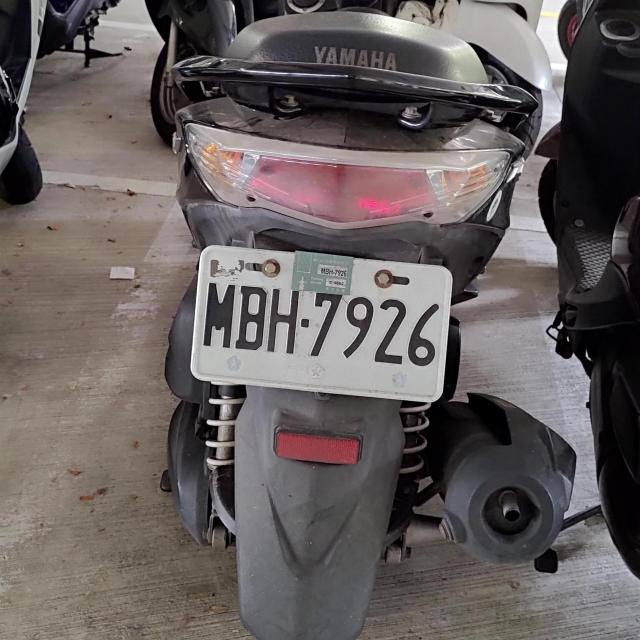W: (186, 244, 454, 398)
